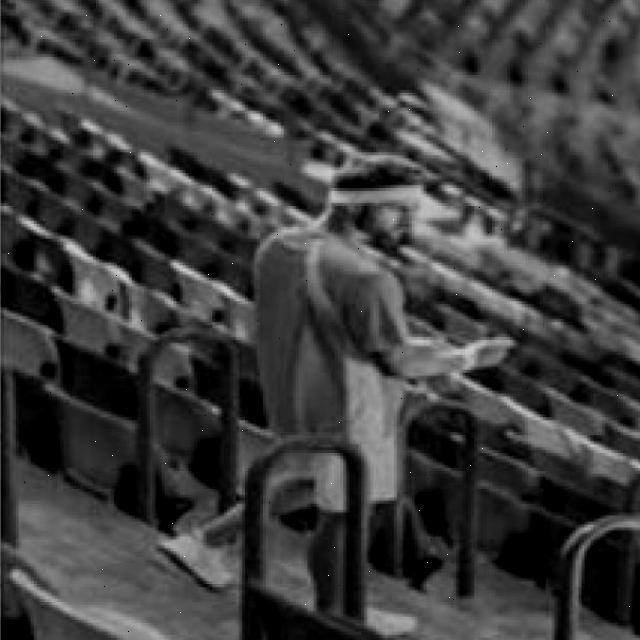stair: (132, 441, 379, 640)
